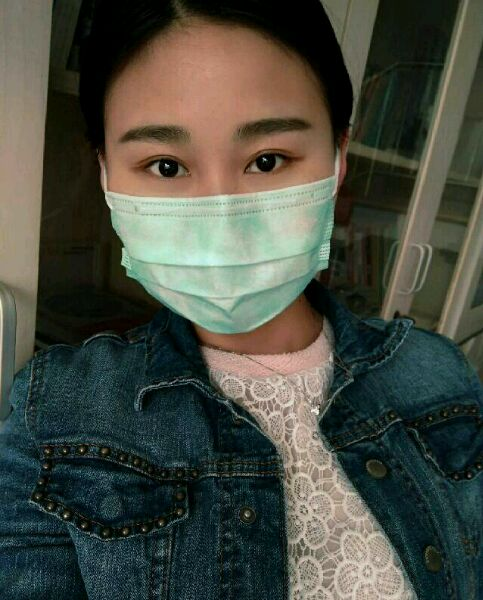face_mask: (109, 24, 334, 324)
